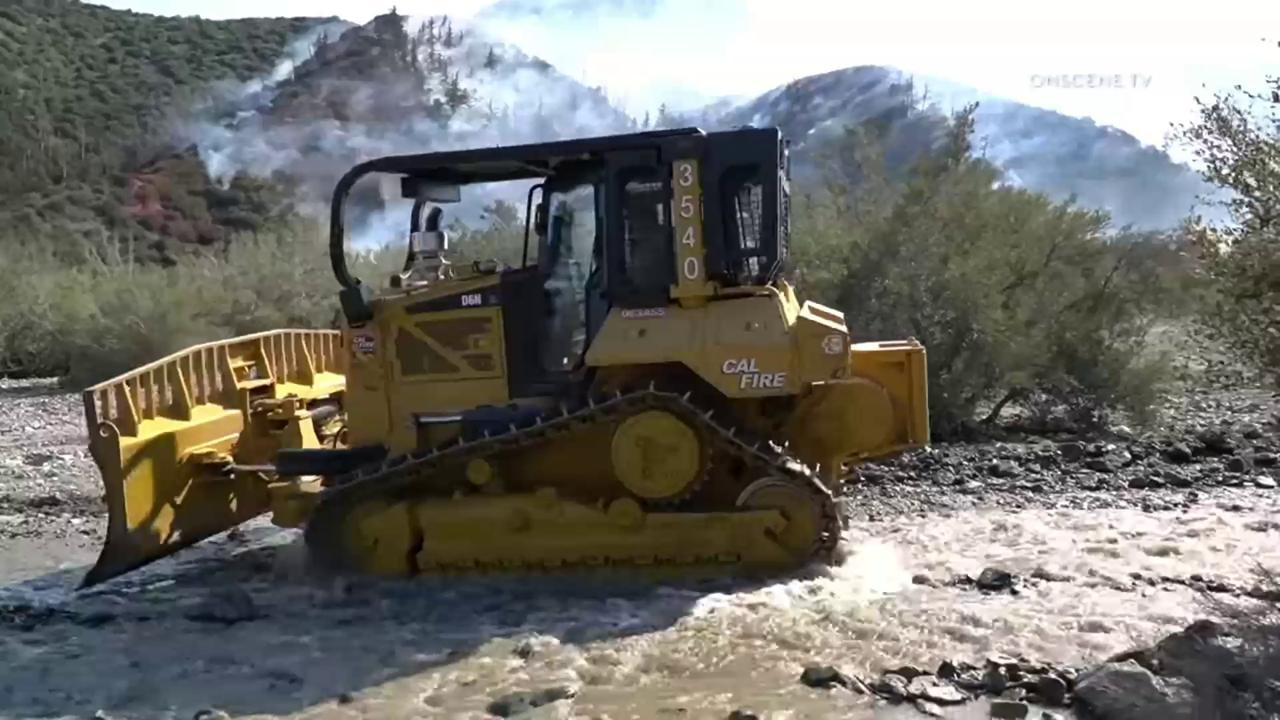smoke: (177, 14, 868, 255), (883, 64, 1245, 236)
